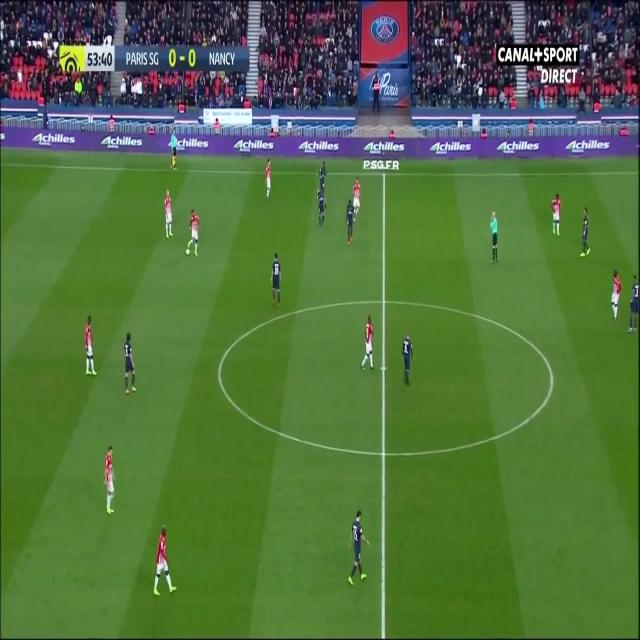Ball: (184, 245, 191, 259)
Player: (344, 505, 372, 591), (152, 521, 178, 600), (102, 445, 117, 521), (122, 330, 138, 401), (358, 313, 376, 375), (83, 312, 99, 380), (270, 252, 286, 314), (626, 270, 640, 338), (576, 204, 592, 262), (400, 332, 414, 389), (187, 206, 202, 259), (610, 266, 624, 322), (549, 190, 563, 242), (163, 187, 175, 240), (316, 186, 330, 228), (352, 178, 363, 224), (263, 157, 273, 202), (317, 160, 329, 190)
Referee: (488, 209, 502, 266), (168, 126, 182, 173)
